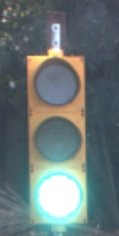Green: (8, 26, 98, 235)
